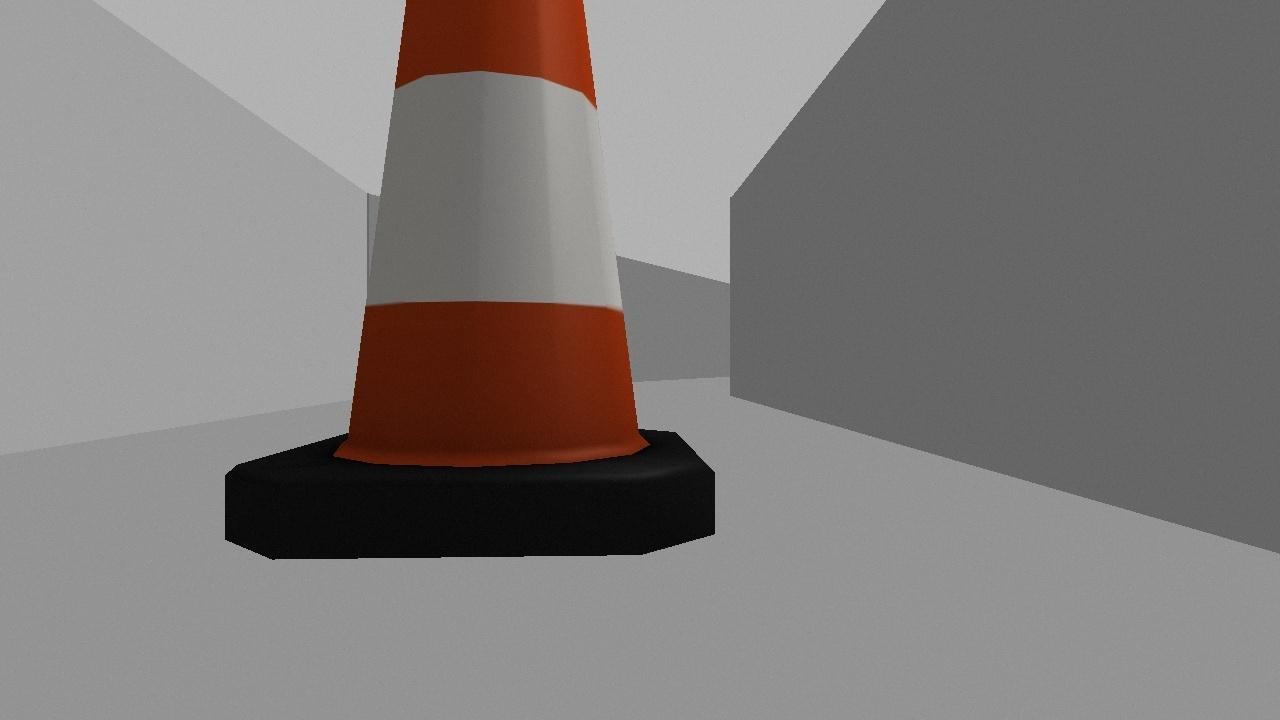cone_barrel: (195, 0, 750, 588)
